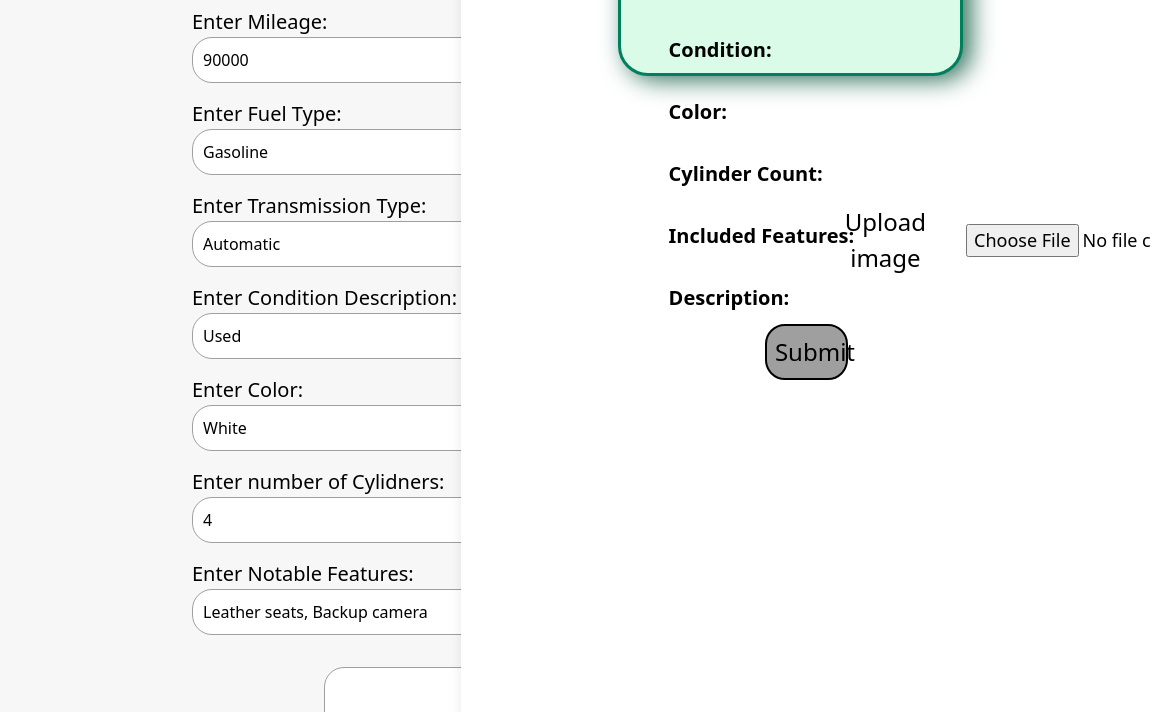
Test: Posting Page › should display an error message when submitting without an image
(page scrolled)
Expected: the field named "mileage" below "Enter Mileage:" is shown, [192,37,642,83]
Expected: the field named "fuel" below "Enter Fuel Type:" is shown, [192,129,642,175]
Click the submit button.
click(807, 352)  # box [765,324,848,380]
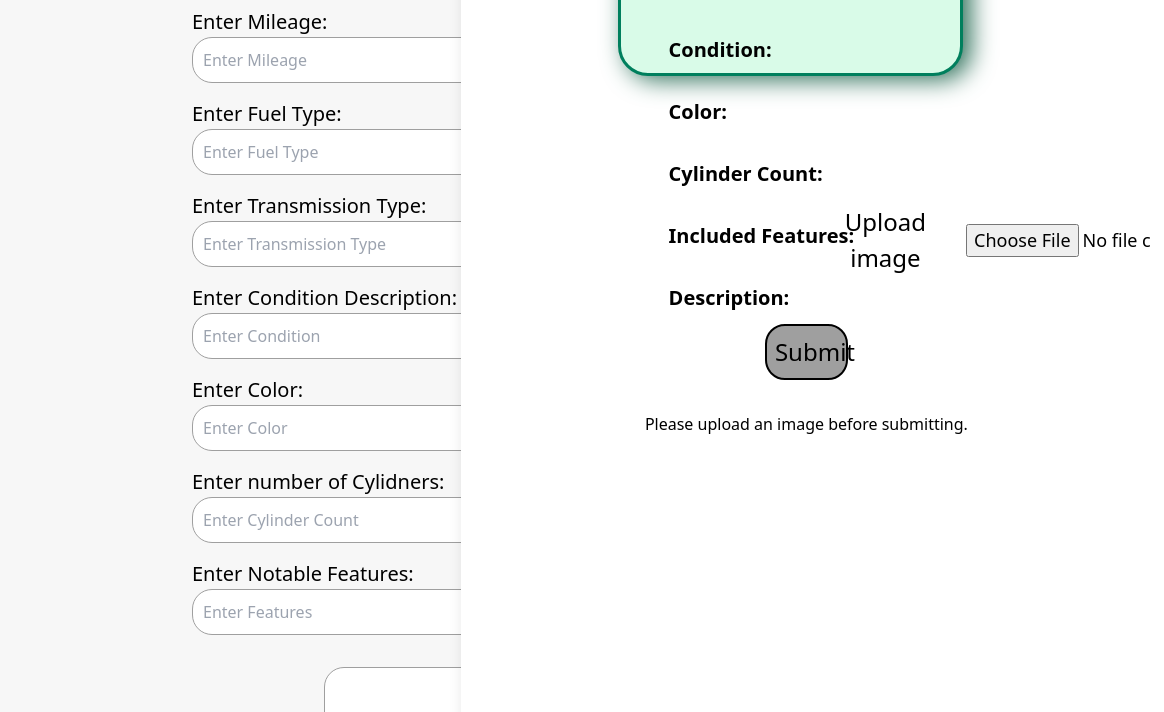
Expected: the text with class "success-message" reads "Please upload an image before submitting.", [645,413,968,435]
